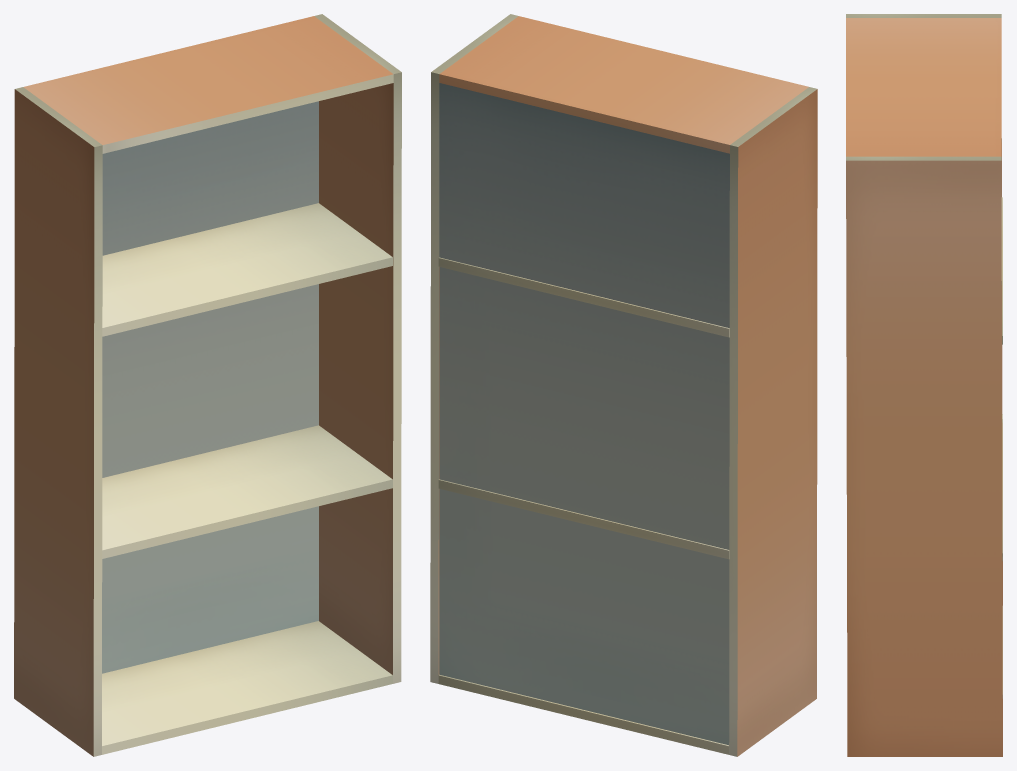
File: cabin02aaad.fbx
3 renders of one model, left to right at view 1: azimuth 30°, elevation 25°; view 2: azimuth 150°, elevation 25°; view 3: azimuth 270°, elevation 25°, orthographic. The views are drawn at different scales.
Visible parts, largest first — view 1: cabin02aaad; view 2: cabin02aaad; view 3: cabin02aaad.
Boxes of the visible parts, x1,y1,x2,y2 form: cabin02aaad: [14, 14, 401, 756]; cabin02aaad: [430, 14, 817, 756]; cabin02aaad: [846, 14, 1002, 756].
Size of the model in its own units: 0.7397 by 1.4 by 0.3345.
